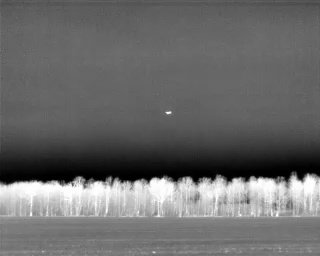DRONE: (163, 107, 175, 118)
